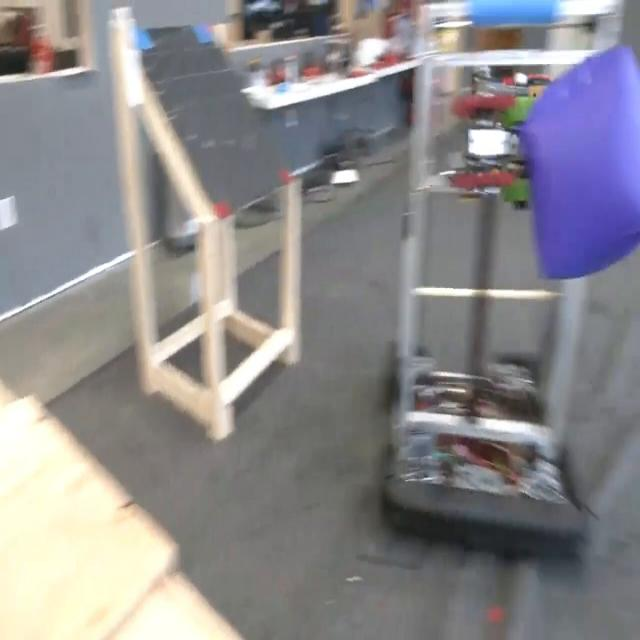frc_cube: (522, 41, 640, 292)
